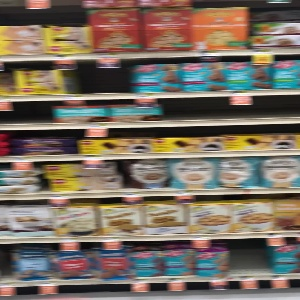void: (165, 95, 300, 121), (72, 58, 132, 96), (229, 238, 270, 278), (1, 100, 50, 127)
